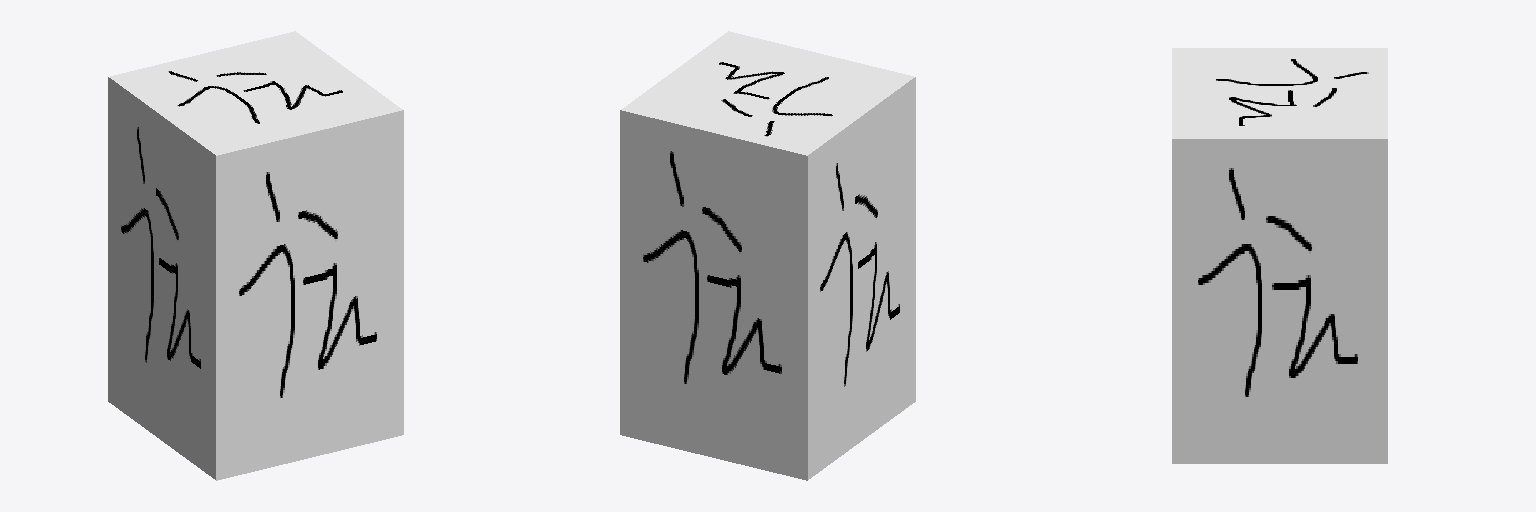
3 renders of one model, left to right at view 1: azimuth 30°, elevation 25°; view 2: azimuth 150°, elevation 25°; view 3: azimuth 270°, elevation 25°, orthographic.
Parts seen in each view (by area): view 1: default; view 2: default; view 3: default.
Boxes of the visible parts, x1=… form: default: x1=108, y1=31, x2=403, y2=480; default: x1=620, y1=31, x2=915, y2=480; default: x1=1172, y1=48, x2=1387, y2=463.
Size of the model in its own units: 2 by 3.32 by 2.
6 materials, 5 textured.